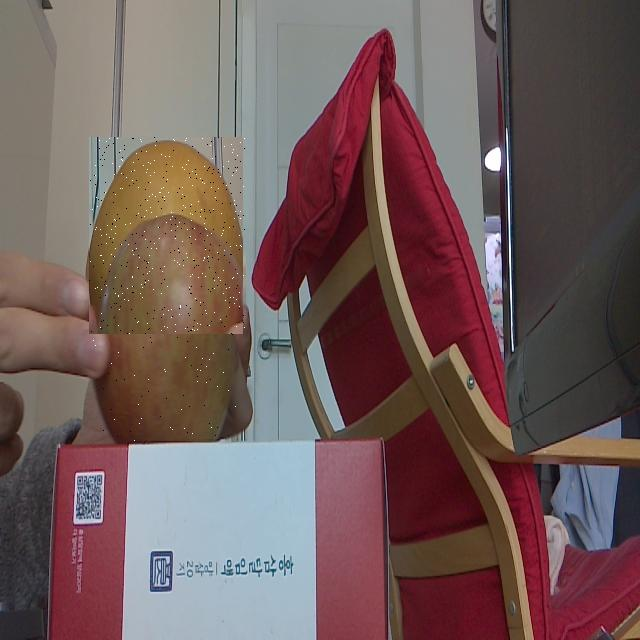apple: (92, 218, 237, 441)
pear: (90, 137, 246, 334)
